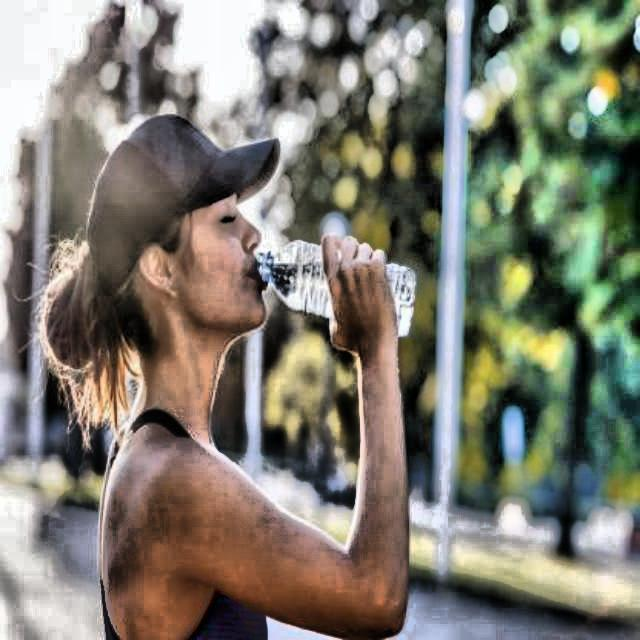Bottles: (249, 231, 416, 339)
